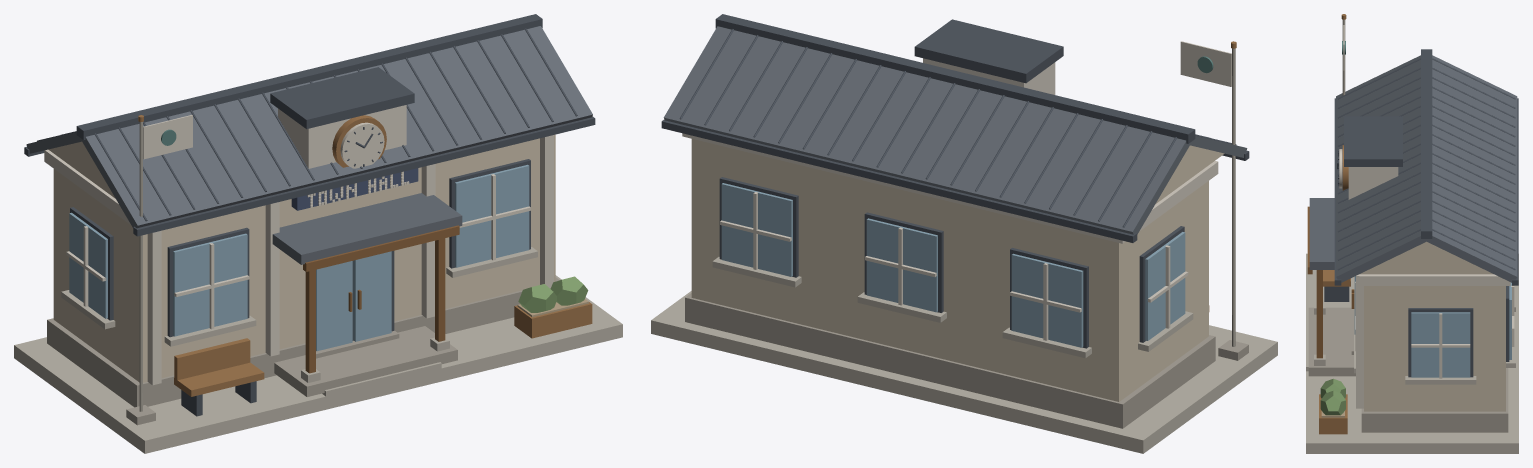
Rendered from komachi-town-hall.glb.
3 views of the same model, side by side, from view 1: azimuth 30°, elevation 25°; view 2: azimuth 150°, elevation 25°; view 3: azimuth 270°, elevation 25° (orthographic). The views are drawn at different scales.
Parts seen in each view (by area): view 1: Town_Hall_Building_And_Porch, Town_Hall_Flagpole; view 2: Town_Hall_Building_And_Porch, Town_Hall_Flagpole; view 3: Town_Hall_Building_And_Porch, Town_Hall_Flagpole.
Boxes of the visible parts, <box> form: Town_Hall_Building_And_Porch: <box>14,14,622,453</box>; Town_Hall_Flagpole: <box>126,115,192,425</box>; Town_Hall_Building_And_Porch: <box>651,14,1277,453</box>; Town_Hall_Flagpole: <box>1180,41,1248,360</box>; Town_Hall_Building_And_Porch: <box>1306,49,1518,453</box>; Town_Hall_Flagpole: <box>1341,14,1346,95</box>.
Bounding box in the file's own units: 1.9 × 1.2 × 0.9.
